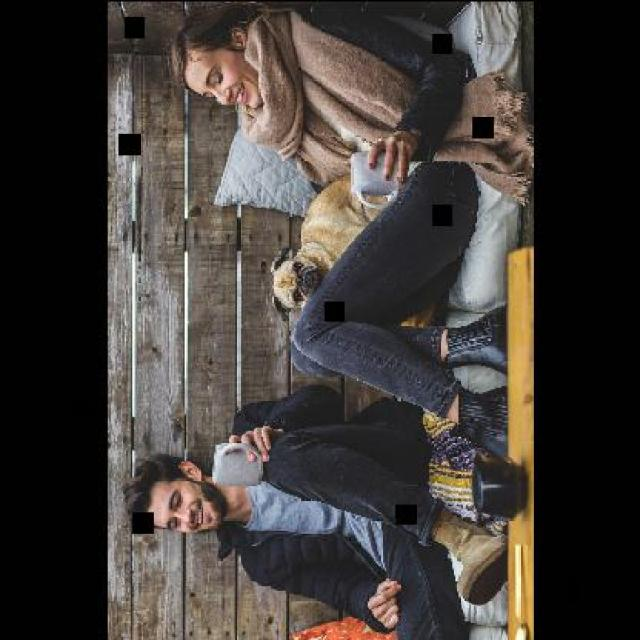unauthorized: (270, 171, 392, 314)
